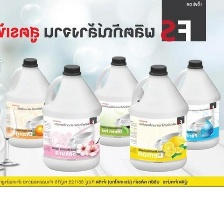cleaning_solution: (39, 61, 104, 173), (127, 62, 190, 173), (88, 53, 149, 148), (165, 57, 222, 151), (3, 55, 59, 150)
